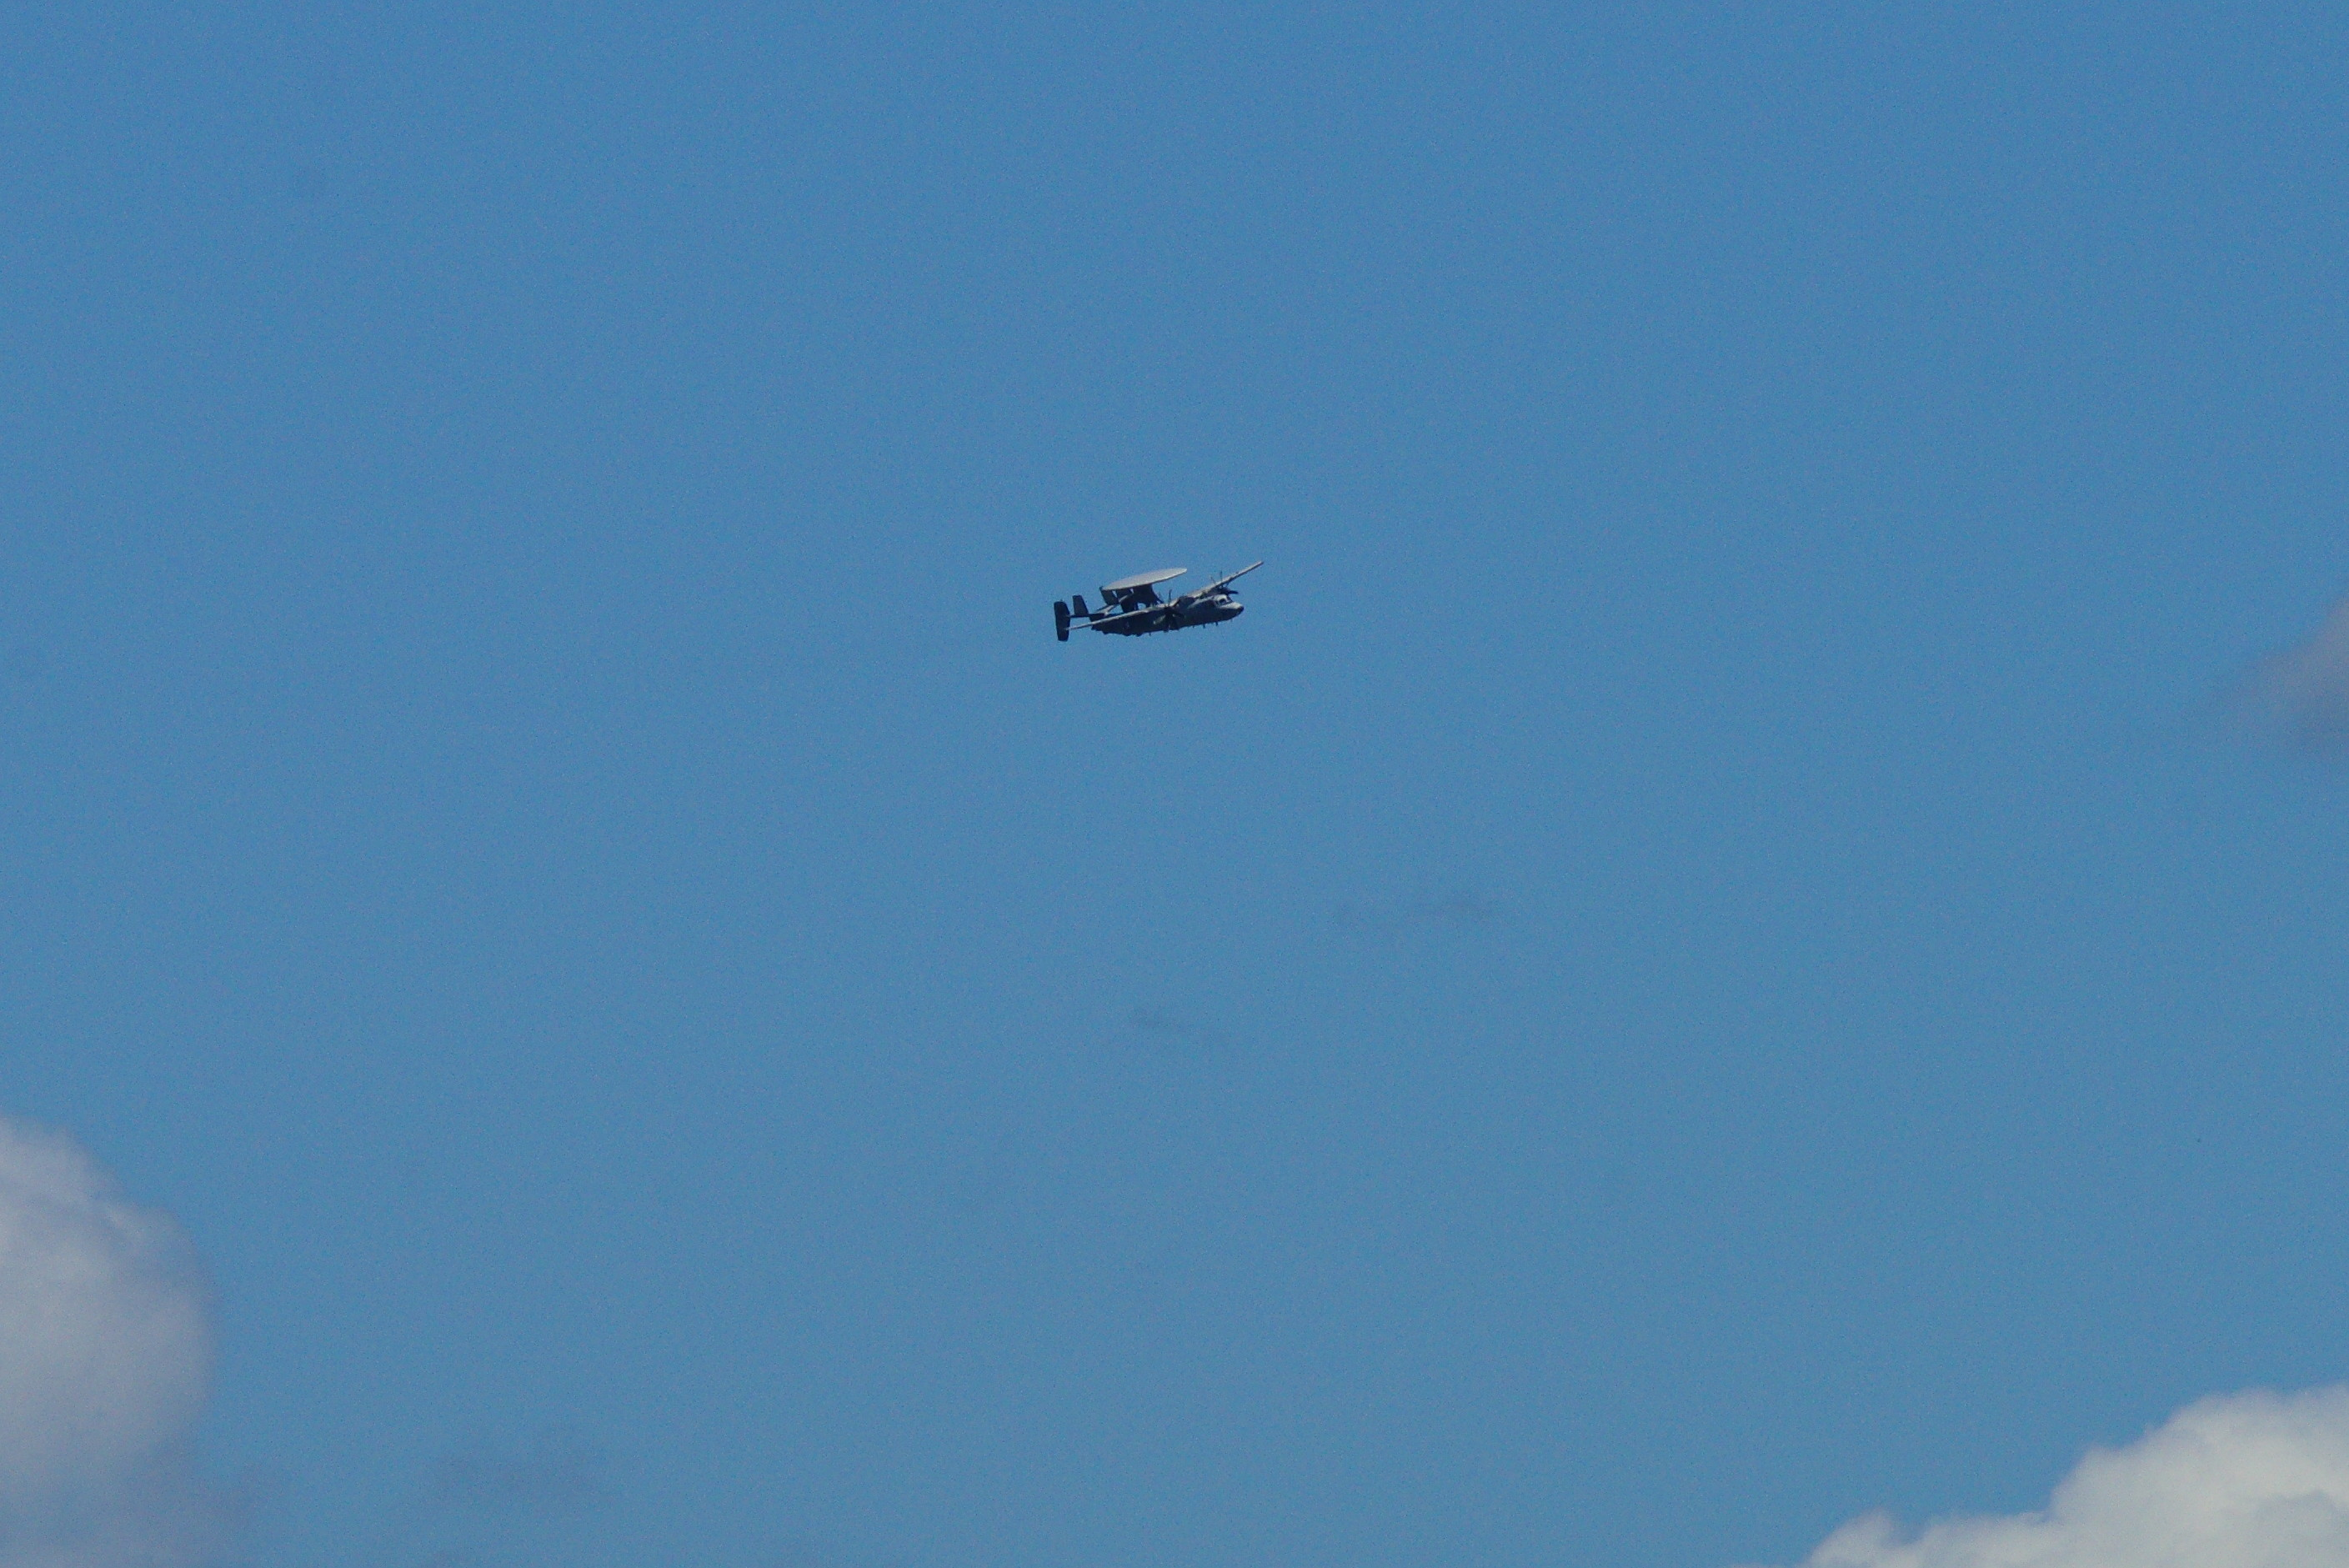E2: (1053, 560, 1265, 642)
